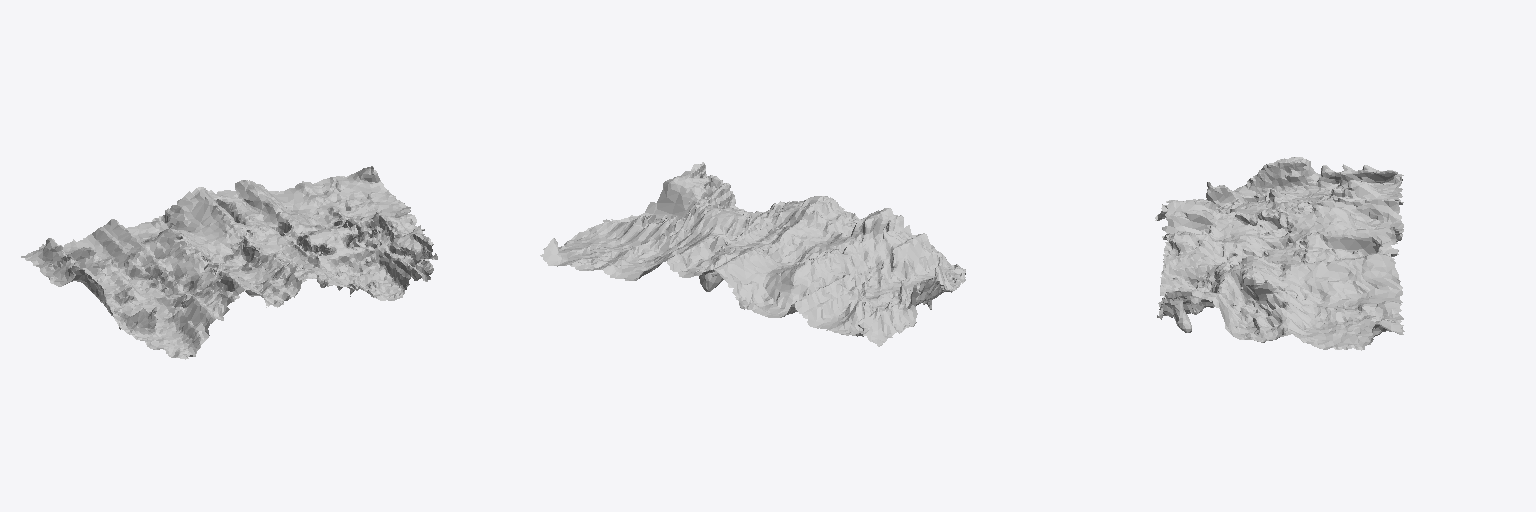
File: Apr.18, 02. Ilyich plant in Mariupol, Ukraine.obj
The picture shows the model from 3 angles: view 1: azimuth 30°, elevation 25°; view 2: azimuth 150°, elevation 25°; view 3: azimuth 270°, elevation 25°; orthographic projection.
Visible parts, largest first — view 1: mariupol_twitter02_3dmodel_a; view 2: mariupol_twitter02_3dmodel_a; view 3: mariupol_twitter02_3dmodel_a.
Part boxes in pixels (x1,y1,x2,y2): mariupol_twitter02_3dmodel_a: (21,166,437,359); mariupol_twitter02_3dmodel_a: (540,162,965,346); mariupol_twitter02_3dmodel_a: (1155,157,1404,350).
Size of the model in its own units: 24.4 by 3.7 by 15.12.